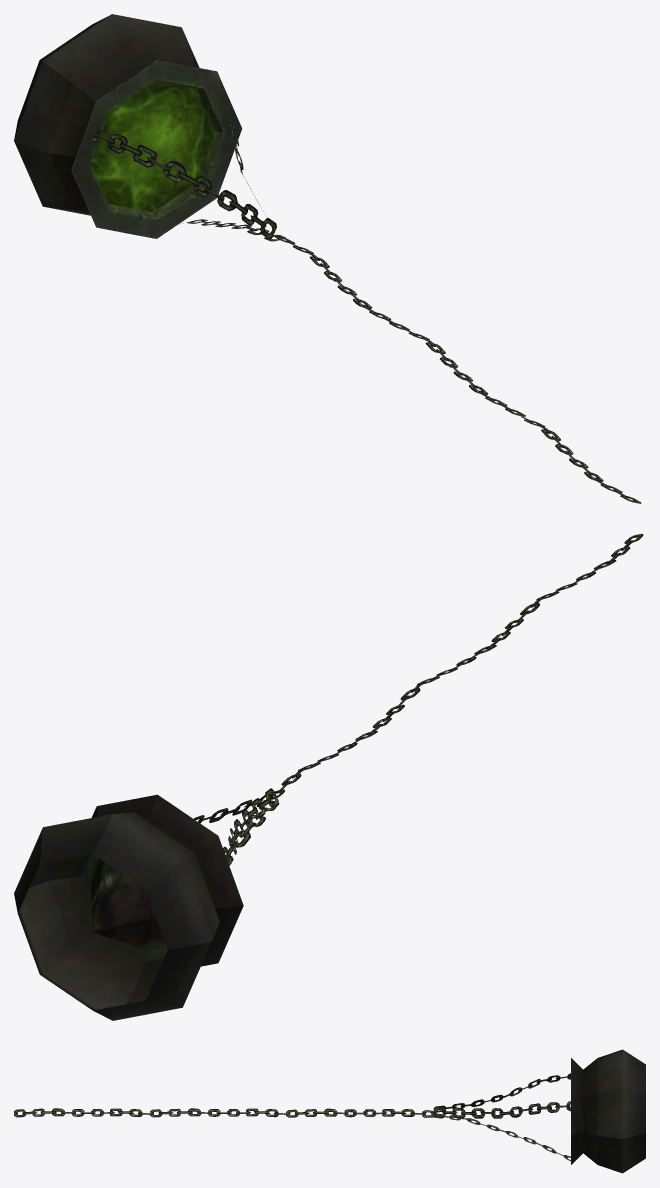
The model's file is tanxian_fuben_257_lianjinfang_guo_02_a.obj.
The picture shows the model from 3 angles, top to bottom: view 1: azimuth 30°, elevation 25°; view 2: azimuth 150°, elevation 25°; view 3: azimuth 270°, elevation 25°; orthographic projection. The views are drawn at different scales.
Parts seen in each view (by area): view 1: tanxian_fuben_257_lianjinfang_guo_02_a; view 2: tanxian_fuben_257_lianjinfang_guo_02_a; view 3: tanxian_fuben_257_lianjinfang_guo_02_a.
Boxes of the visible parts, x1,y1,x2,y2 form: tanxian_fuben_257_lianjinfang_guo_02_a: (14,14,641,503); tanxian_fuben_257_lianjinfang_guo_02_a: (14,534,643,1020); tanxian_fuben_257_lianjinfang_guo_02_a: (14,1049,645,1173).
Size of the model in its own units: 70.25 by 70.25 by 336.
1 material, 1 textured.
